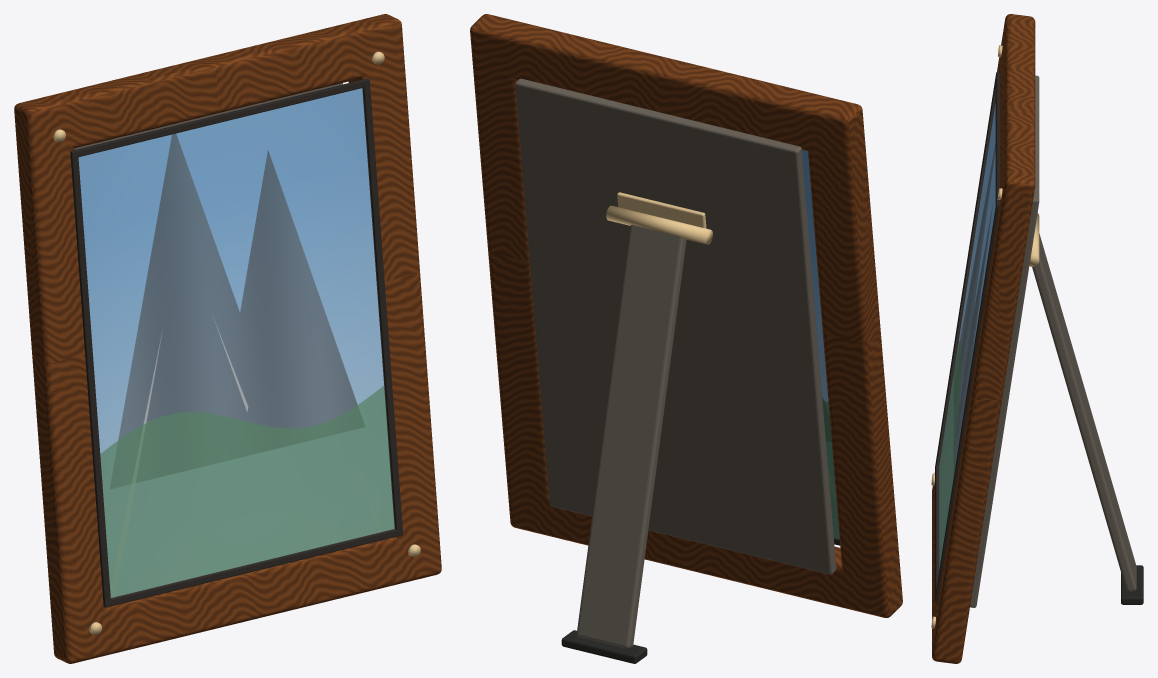
Rendered from picture_frame.glb.
The picture shows the model from 3 angles, left to right: view 1: azimuth 30°, elevation 25°; view 2: azimuth 150°, elevation 25°; view 3: azimuth 270°, elevation 25°; orthographic projection. The views are drawn at different scales.
Parts seen in each view (by area): view 1: PhotoPlane, front transparent glass pane, left solid wooden rail, right solid wooden rail, top solid wooden rail, bottom solid wooden rail, right dark inner lip, left dark inner lip, top dark inner lip, bottom dark inner lip; view 2: slightly recessed dark back board, left solid wooden rail, fold out rear support stand, top solid wooden rail, right solid wooden rail, bottom solid wooden rail, PhotoPlane, round brass hinge pin, upper brass hinge plate, wide rubber foot on support; view 3: right solid wooden rail, front transparent glass pane, PhotoPlane, fold out rear support stand, top solid wooden rail, slightly recessed dark back board, left dark inner lip, right dark inner lip, bottom solid wooden rail, left solid wooden rail, top dark inner lip, bottom dark inner lip (+2 smaller).
Part boxes in pixels (<box>): PhotoPlane: <box>78,88,394,597</box>; front transparent glass pane: <box>79,88,394,597</box>; left solid wooden rail: <box>14,94,107,663</box>; right solid wooden rail: <box>348,14,441,582</box>; top solid wooden rail: <box>14,15,404,153</box>; bottom solid wooden rail: <box>51,531,441,663</box>; right dark inner lip: <box>362,78,402,536</box>; left dark inner lip: <box>70,150,110,607</box>; top dark inner lip: <box>70,79,370,157</box>; bottom dark inner lip: <box>103,529,400,607</box>; slightly recessed dark back board: <box>515,78,836,574</box>; left solid wooden rail: <box>808,95,902,617</box>; fold out rear support stand: <box>576,224,686,648</box>; top solid wooden rail: <box>470,14,864,157</box>; right solid wooden rail: <box>470,14,548,534</box>; bottom solid wooden rail: <box>508,489,902,617</box>; PhotoPlane: <box>802,150,839,539</box>; round brass hinge pin: <box>606,205,712,244</box>; upper brass hinge plate: <box>617,192,706,228</box>; wide rubber foot on support: <box>561,630,647,663</box>; right solid wooden rail: <box>932,163,1035,663</box>; front transparent glass pane: <box>937,96,994,566</box>; PhotoPlane: <box>939,103,995,568</box>; fold out rear support stand: <box>1032,233,1136,592</box>; top solid wooden rail: <box>1000,15,1035,220</box>; slightly recessed dark back board: <box>970,75,1039,607</box>; left dark inner lip: <box>935,72,999,467</box>; right dark inner lip: <box>935,203,999,601</box>; bottom solid wooden rail: <box>932,485,966,660</box>; left solid wooden rail: <box>932,14,1035,504</box>; top dark inner lip: <box>995,72,999,210</box>; bottom dark inner lip: <box>935,465,939,601</box>.
Bounding box in the file's own units: 3.15 × 4.29 × 1.68.
7 materials, 2 textured.
